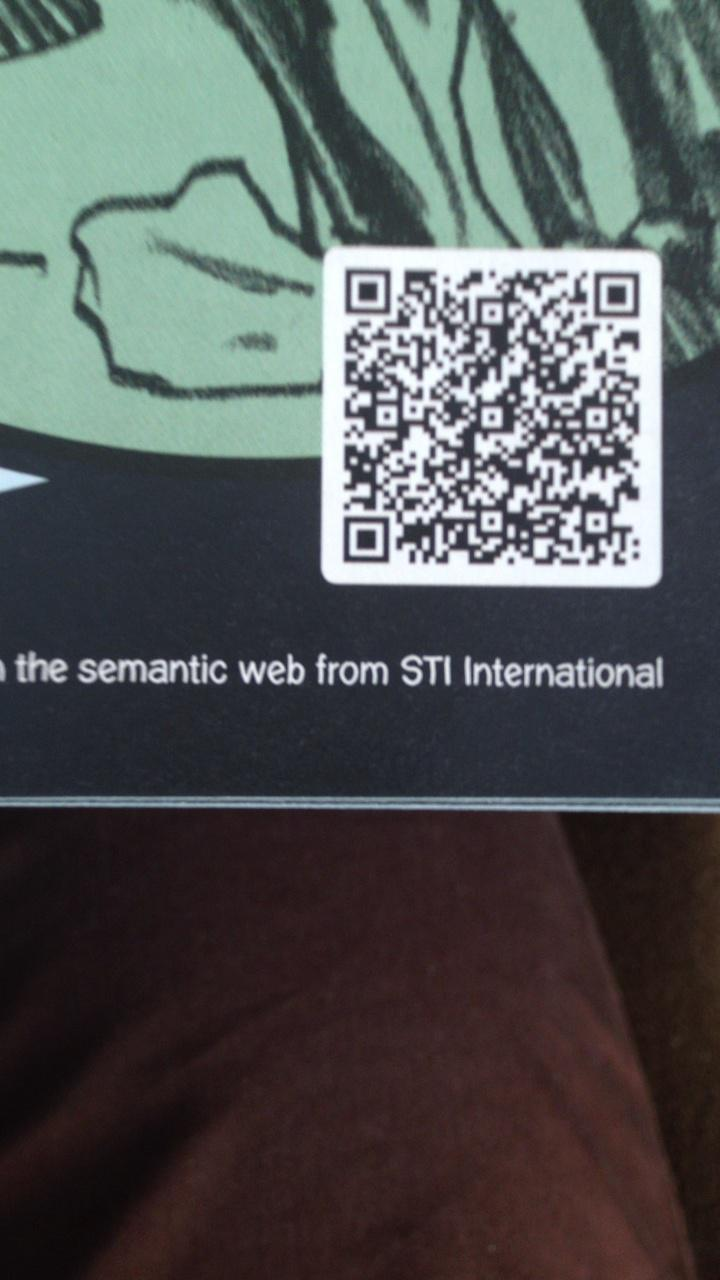qr_code: (343, 268, 640, 567)
